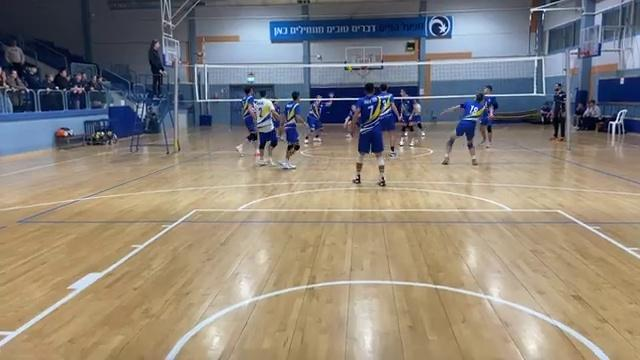ball: (346, 63, 354, 74)
